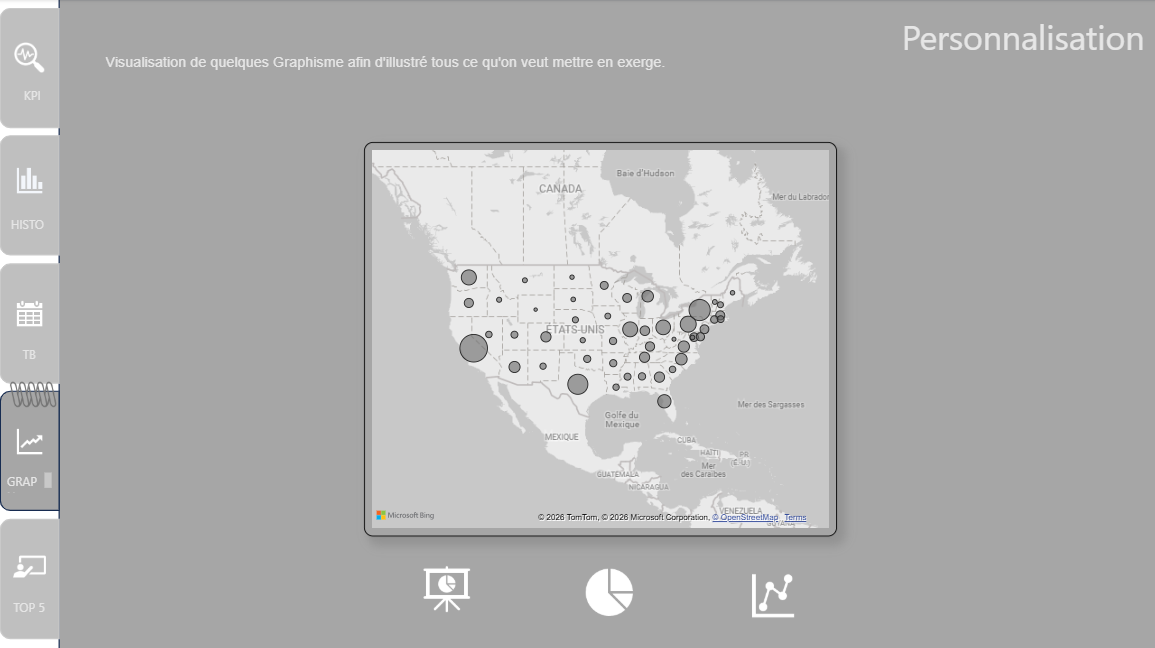

This screenshot's page, from the dashboard's own definition file:
{"tool":"powerbi","page":{"name":"feuille4","canvas":[1280,720],"ordinal":8},"visuals":[{"type":"textbox","box":[800.6,11.6,471.6,64.3],"z":0,"group":"g1"},{"type":"map","fields":{"Category":["Superstore 2025.State"],"Size":["Sum(Superstore 2025.Quantity)"]},"box":[403.5,158.1,524.3,436.9],"z":0},{"type":"textbox","box":[111.8,56.6,663.1,37.3],"z":1000,"group":"g1"},{"type":"image","box":[7.7,39.9,50.1,50.1],"z":2000,"group":"g1"},{"type":"group","id":"g1","title":"Groupe 1","box":[0,11.6,1272.3,695.3],"z":3000},{"type":"image","box":[7.7,604,50.1,50.1],"z":3000,"group":"g1"},{"type":"image","box":[7.7,176.1,50.1,50.1],"z":4000,"group":"g1"},{"type":"image","box":[7.7,465.3,50.1,50.1],"z":5000,"group":"g1"},{"type":"image","box":[7.7,323.9,50.1,50.1],"z":6000,"group":"g1"},{"type":"textbox","box":[7.7,93.8,42.4,33.4],"z":7000,"group":"g1"},{"type":"textbox","box":[0,236.5,60.4,32.1],"z":8000,"group":"g1"},{"type":"textbox","box":[2.6,380.4,60.4,32.1],"z":9000,"group":"g1"},{"type":"textbox","box":[2.6,520.5,60.4,32.1],"z":10000,"group":"g1"},{"type":"textbox","box":[2.6,660.6,60.4,32.1],"z":11000,"group":"g1"},{"type":"shape","box":[0,11.6,63,131.1],"z":12000,"group":"g1"},{"type":"shape","box":[0,151.7,63,131.1],"z":13000,"group":"g1"},{"type":"shape","box":[0,434.4,63,131.1],"z":14000,"group":"g1"},{"type":"shape","box":[0,575.8,63,131.1],"z":15000,"group":"g1"},{"type":"shape","box":[0,294.3,63,131.1],"z":16000,"group":"g1"},{"type":"image","box":[637.4,620.1,75.8,75.8],"z":17000,"group":"g1"},{"type":"image","box":[818.6,624.6,75.8,74.5],"z":18000,"group":"g1"},{"type":"image","box":[457.5,616.9,74.5,74.5],"z":19000,"group":"g1"}]}

Visuals, with their boxes on the page's 1280x720 design canvas (x1, y1, x2, y2). These are canvas units, not pixel positions in the 1155x648 screenshot, which may show the page scaled, cropped or inside an application window:
textbox: [left=801, top=12, right=1272, bottom=76]
map - Superstore 2025.State x Sum(Superstore 2025.Quantity): [left=404, top=158, right=928, bottom=595]
textbox: [left=112, top=57, right=775, bottom=94]
image: [left=8, top=40, right=58, bottom=90]
"Groupe 1" group: [left=0, top=12, right=1272, bottom=707]
image: [left=8, top=604, right=58, bottom=654]
image: [left=8, top=176, right=58, bottom=226]
image: [left=8, top=465, right=58, bottom=515]
image: [left=8, top=324, right=58, bottom=374]
textbox: [left=8, top=94, right=50, bottom=127]
textbox: [left=0, top=236, right=60, bottom=269]
textbox: [left=3, top=380, right=63, bottom=412]
textbox: [left=3, top=520, right=63, bottom=553]
textbox: [left=3, top=661, right=63, bottom=693]
shape: [left=0, top=12, right=63, bottom=143]
shape: [left=0, top=152, right=63, bottom=283]
shape: [left=0, top=434, right=63, bottom=566]
shape: [left=0, top=576, right=63, bottom=707]
shape: [left=0, top=294, right=63, bottom=425]
image: [left=637, top=620, right=713, bottom=696]
image: [left=819, top=625, right=894, bottom=699]
image: [left=458, top=617, right=532, bottom=691]
